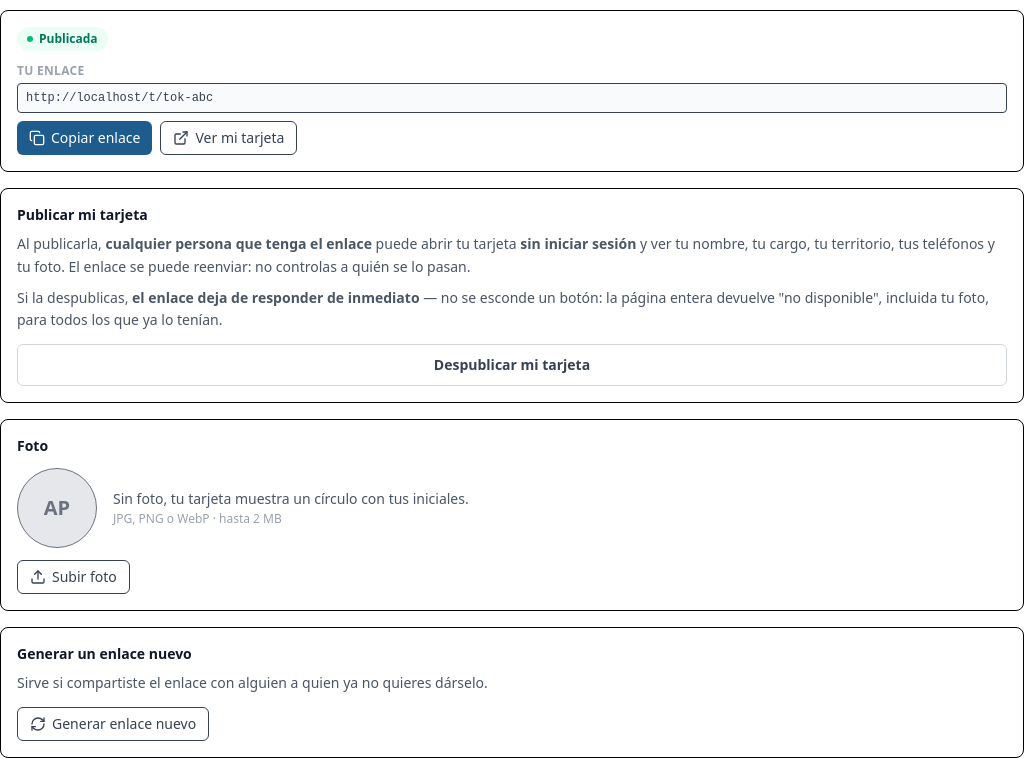
rotar el enlace › confirmar rota y RECARGA la ficha (la RPC devuelve void, no el token nuevo)
(page scrolled)
Step 1. Click the button "Generar enlace nuevo" → (113, 724), box [17,707,209,741]
(page scrolled)
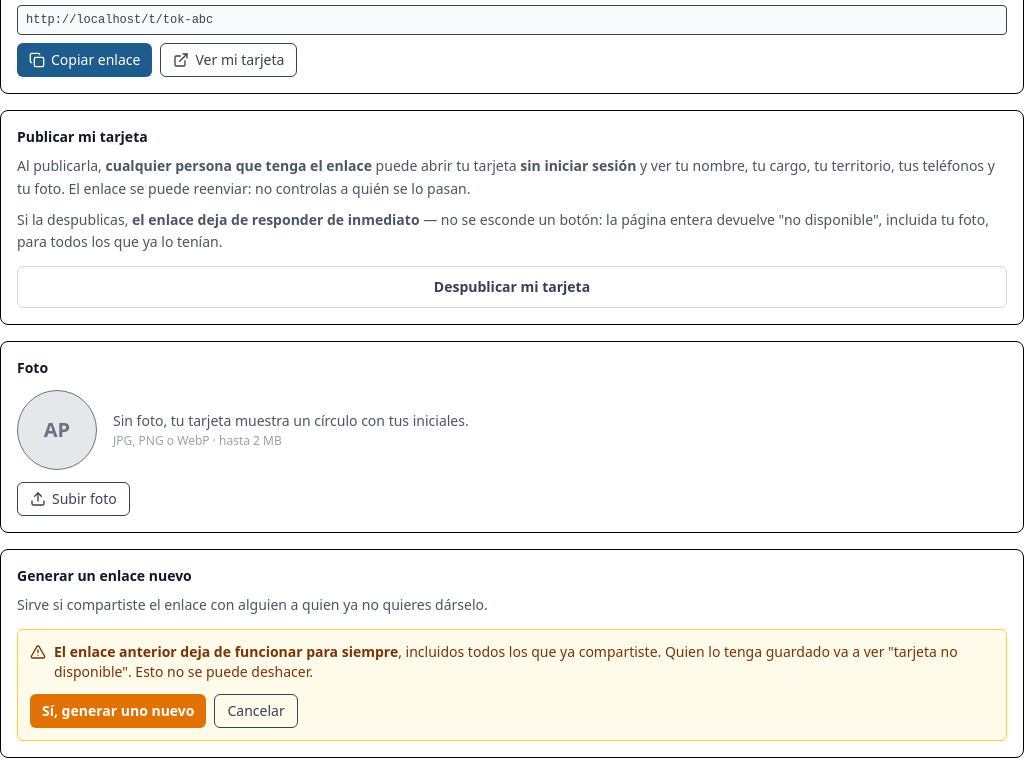
Step 2. Click the button "Sí, generar uno nuevo" → (118, 711), box [30,694,206,728]
(page scrolled)
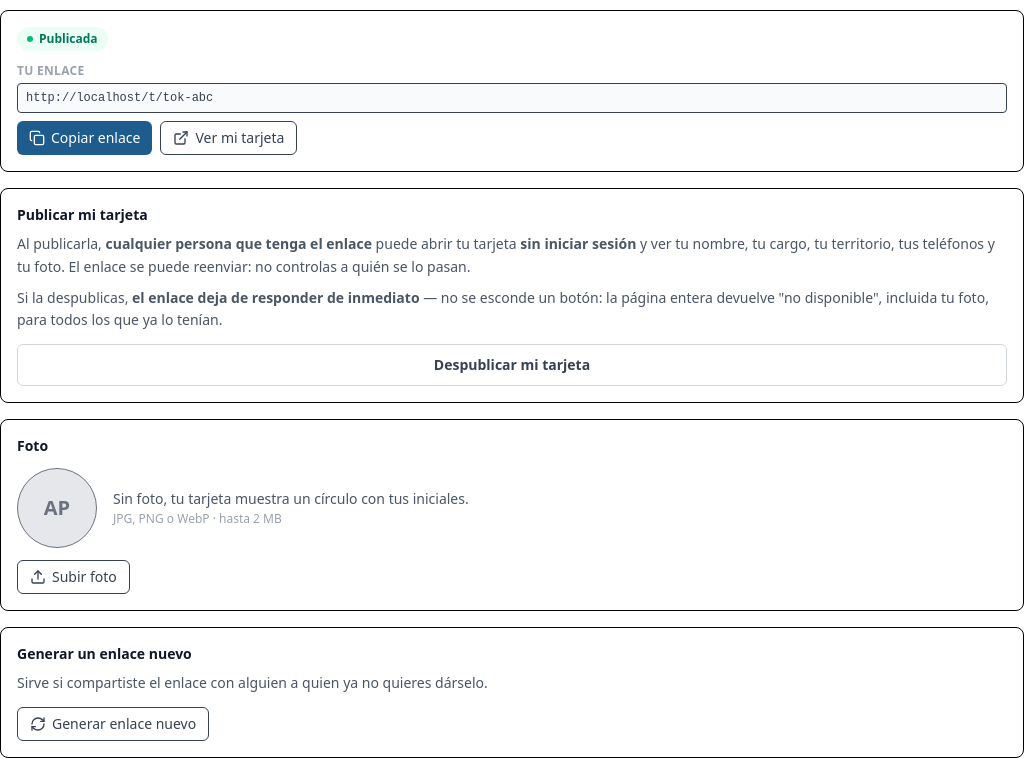
Check: the button "Sí, generar uno nuevo" is gone
